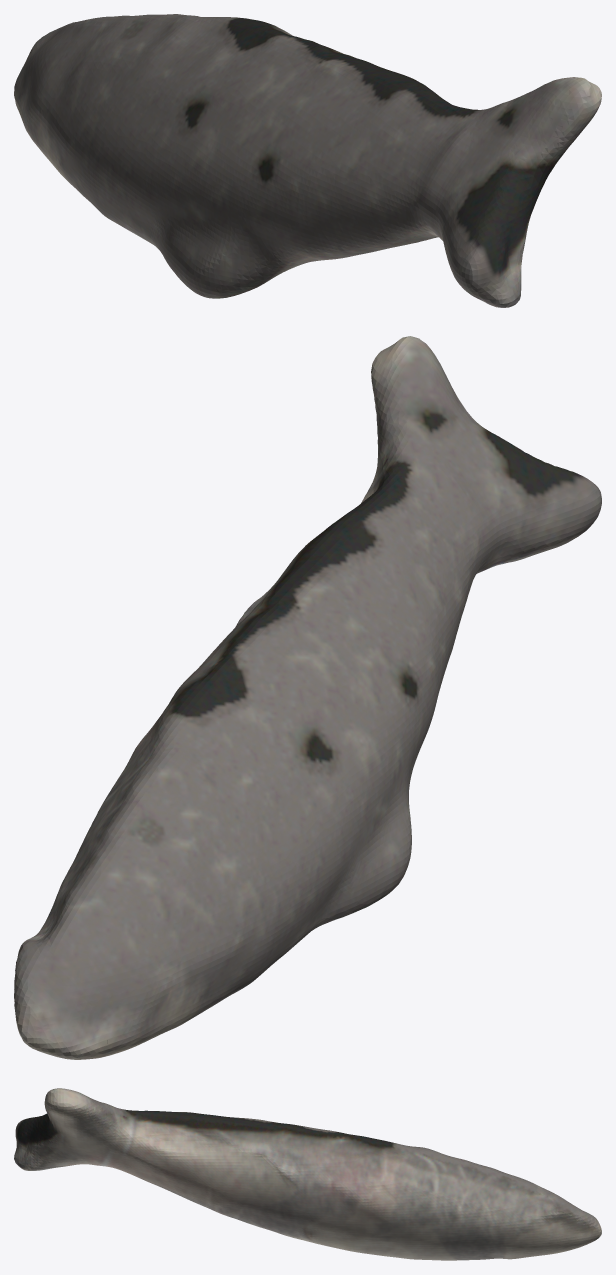
The model's file is fish.obj.
3 views of the same model, one above another, from view 1: azimuth 30°, elevation 25°; view 2: azimuth 150°, elevation 25°; view 3: azimuth 270°, elevation 25° (orthographic). The views are drawn at different scales.
Visible parts, largest first — view 1: scan7roughreg-smoothfusion; view 2: scan7roughreg-smoothfusion; view 3: scan7roughreg-smoothfusion.
Part boxes in pixels (left/top/right/bottom): scan7roughreg-smoothfusion: left=14, top=14, right=601, bottom=307; scan7roughreg-smoothfusion: left=14, top=336, right=601, bottom=1059; scan7roughreg-smoothfusion: left=14, top=1088, right=601, bottom=1260.
Size of the model in its own units: 27.72 by 41.7 by 109.
Materials: 1 (1 with a texture image).
